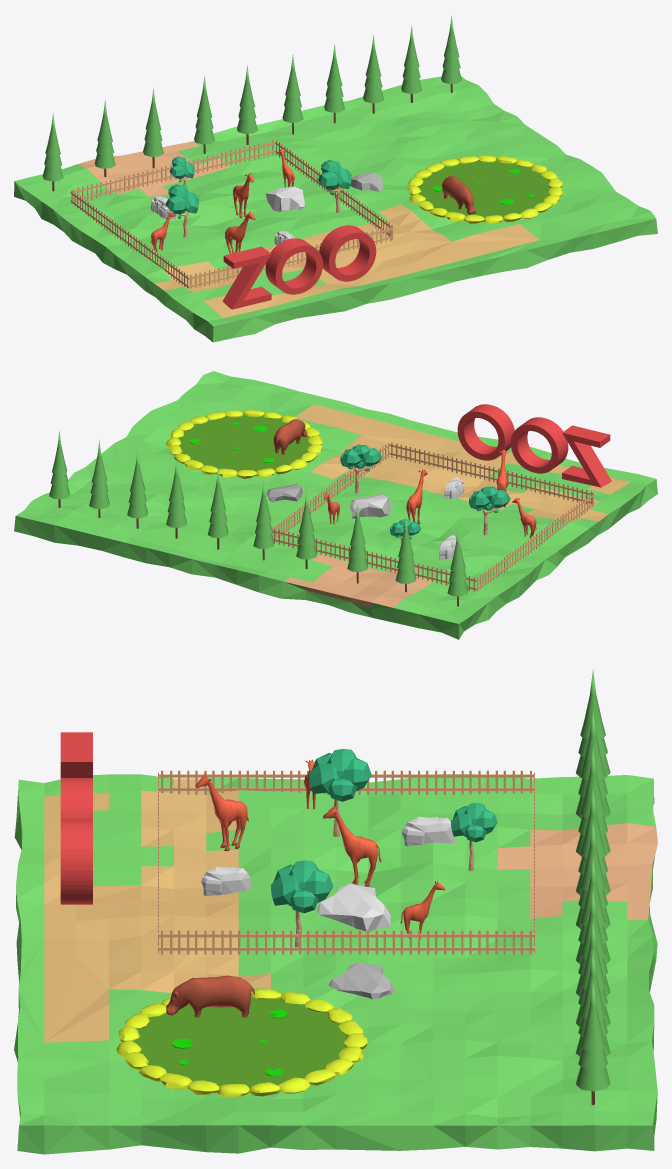
Rendered from zoo.fbx.
3 renders of one model, top to bottom at view 1: azimuth 30°, elevation 25°; view 2: azimuth 150°, elevation 25°; view 3: azimuth 270°, elevation 25°, orthographic. The views are drawn at different scales.
Parts seen in each view (by area): view 1: Plane.002, Pond, Text, Cube.186, Cube.006, Cube.002, Firtree_4.008, Firtree_4.003, Firtree_4.004, Firtree_4.006, Firtree_4.010, Firtree_4.007 (+8 smaller); view 2: Plane.002, Pond, Text, Cube.186, Cube.002, Cube.006, Firtree_4.005, Firtree_4.008, Firtree_4.004, Firtree_4.006, Firtree_4.003, Firtree_4.007 (+9 smaller); view 3: Plane.002, Pond, Cube.186, Text, Hippo, Cube.002, Cube.006, rock, Firtree_4, rock.001, Cube.001, Plane.004 (+13 smaller).
Boxes of the visible parts, left/top/right/bottom form: Plane.002: left=14, top=76, right=657, bottom=342; Pond: left=407, top=155, right=563, bottom=224; Text: left=222, top=225, right=376, bottom=309; Cube.186: left=70, top=140, right=393, bottom=288; Cube.006: left=165, top=184, right=199, bottom=237; Cube.002: left=318, top=160, right=351, bottom=212; Firtree_4.008: left=143, top=87, right=163, bottom=168; Firtree_4.003: left=363, top=34, right=383, bottom=113; Firtree_4.004: left=324, top=44, right=344, bottom=123; Firtree_4.006: left=237, top=65, right=257, bottom=144; Firtree_4.010: left=42, top=112, right=63, bottom=191; Firtree_4.007: left=194, top=75, right=214, bottom=153; Plane.002: left=14, top=371, right=657, bottom=639; Pond: left=166, top=410, right=323, bottom=478; Text: left=457, top=404, right=611, bottom=487; Cube.186: left=272, top=442, right=594, bottom=591; Cube.002: left=340, top=444, right=381, bottom=493; Cube.006: left=469, top=486, right=510, bottom=535; Firtree_4.005: left=207, top=468, right=228, bottom=549; Firtree_4.008: left=347, top=503, right=367, bottom=583; Firtree_4.004: left=166, top=458, right=186, bottom=538; Firtree_4.006: left=253, top=480, right=273, bottom=560; Firtree_4.003: left=127, top=450, right=147, bottom=528; Firtree_4.007: left=296, top=491, right=316, bottom=568; Plane.002: left=14, top=773, right=657, bottom=1154; Pond: left=116, top=989, right=367, bottom=1098; Cube.186: left=158, top=770, right=534, bottom=954; Text: left=60, top=732, right=92, bottom=904; Hippo: left=166, top=975, right=254, bottom=1017; Cube.002: left=271, top=860, right=333, bottom=947; Cube.006: left=309, top=749, right=371, bottom=836; rock: left=316, top=883, right=390, bottom=931; Firtree_4: left=576, top=980, right=610, bottom=1105; rock.001: left=328, top=962, right=395, bottom=999; Cube.001: left=451, top=802, right=497, bottom=870; Plane.004: left=195, top=773, right=248, bottom=851.
Size of the model in its own units: 10163 by 2078 by 7861.
